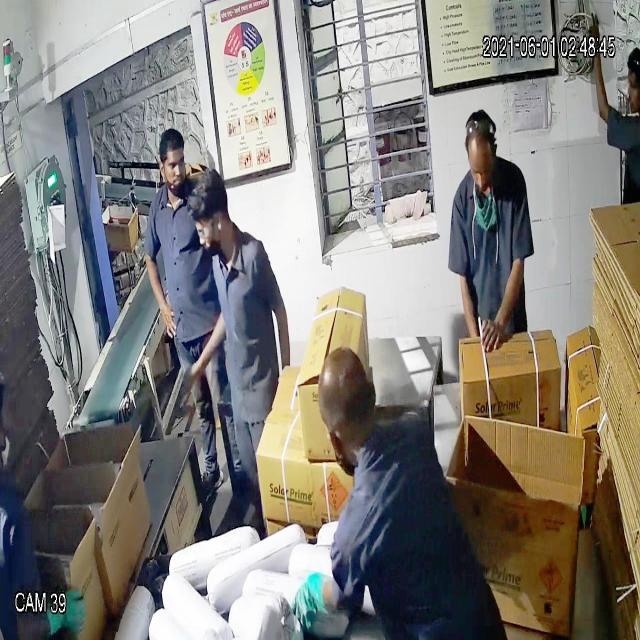glasses: (184, 212, 230, 245)
no-glass: (155, 154, 195, 180), (464, 156, 498, 182)
